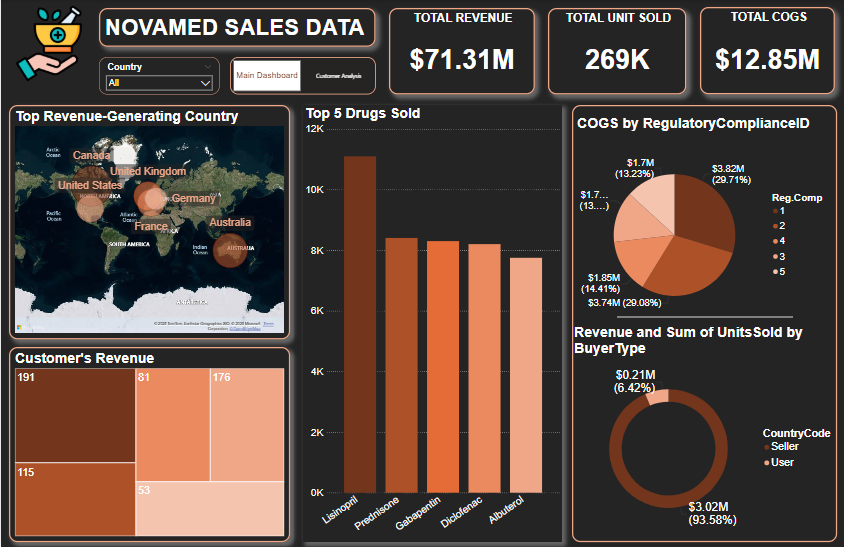

Layout of this report page (visuals, bound fields, positions):
{"tool":"powerbi","page":{"name":"Customer Analysis","canvas":[2000,1300],"ordinal":1},"visuals":[{"type":"treemap","title":"Customer''s Revenue","fields":{"Values":["New Table.Revenue"],"Details":["FactTable.CustomerID"]},"box":[19,825.5,666.6,462.6],"z":0},{"type":"pieChart","fields":{"Category":["FactTable.BuyerType"],"Y":["New Table.Revenue"]},"box":[1354.6,771,635.8,517.2],"z":1000},{"type":"textbox","box":[233.6,21,656.2,91.9],"z":2000},{"type":"card","title":"TOTAL REVENUE","fields":{"Values":["New Table.Revenue"]},"box":[921.3,21,346.5,204.7],"z":3000},{"type":"card","title":"TOTAL UNIT SOLD","fields":{"Values":["Sum(FactTable.UnitsSold)"]},"box":[1296.6,21,328.1,204.7],"z":4000},{"type":"card","title":"TOTAL COGS","fields":{"Values":["New Table.COGS"]},"box":[1658.8,18.4,320.2,207.3],"z":5000},{"type":"image","box":[18.4,7.9,189,196.9],"z":6000},{"type":"slicer","fields":{"Values":["CustomerTable.Country"]},"box":[233.6,136.5,286.1,89.2],"z":7000},{"type":"map","title":"Top Revenue-Generating Country","fields":{"Category":["CustomerTable.Country"],"Size":["New Table.Revenue"]},"box":[18.4,252,666.7,556.4],"z":8000},{"type":"columnChart","title":"Top 5 Drugs Sold","fields":{"Category":["Druglookup.DrugName"],"Y":["Sum(FactTable.UnitsSold)"]},"box":[716.5,252,614.2,1036.7],"z":9000},{"type":"pageNavigator","box":[543.3,136.5,346.5,89.2],"z":9001},{"type":"pieChart","fields":{"Category":["Druglookup.RegulatoryComplianceID"],"Y":["New Table.COGS"]},"box":[1362.2,275.6,614.2,532.8],"z":9002},{"type":"shape","box":[1354.6,251.5,628.6,1036.7],"z":9003},{"type":"shape","box":[1461.3,650,417.5,208.8],"z":9004}]}

Visuals, with their boxes in screenshot pixels (x1, y1, x2, y2), scaled from the page's 2000x1300 canvas onto the 844x547 screenshot:
"Customer''s Revenue" treemap: bbox=(8, 347, 289, 542)
pieChart - FactTable.BuyerType x New Table.Revenue: bbox=(572, 324, 840, 542)
textbox: bbox=(99, 9, 375, 48)
"TOTAL REVENUE" card: bbox=(389, 9, 535, 95)
"TOTAL UNIT SOLD" card: bbox=(547, 9, 686, 95)
"TOTAL COGS" card: bbox=(700, 8, 835, 95)
image: bbox=(8, 3, 88, 86)
slicer - CustomerTable.Country: bbox=(99, 57, 219, 95)
"Top Revenue-Generating Country" map: bbox=(8, 106, 289, 340)
"Top 5 Drugs Sold" columnChart: bbox=(302, 106, 562, 542)
pageNavigator: bbox=(229, 57, 375, 95)
pieChart - Druglookup.RegulatoryComplianceID x New Table.COGS: bbox=(575, 116, 834, 340)
shape: bbox=(572, 106, 837, 542)
shape: bbox=(617, 274, 793, 361)
